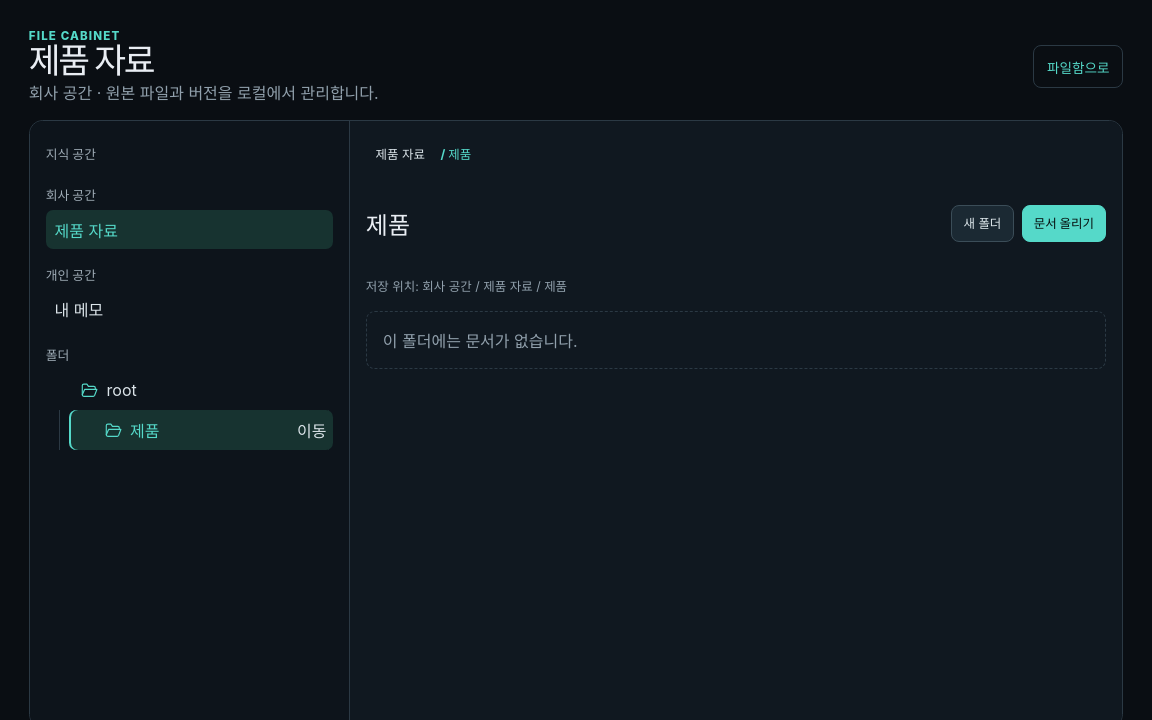
creates a folder under the selected folder and refreshes that exact page
The image size is (1152, 720).
Click the button "새 폴더" at (982, 224), box [951,205,1014,242]
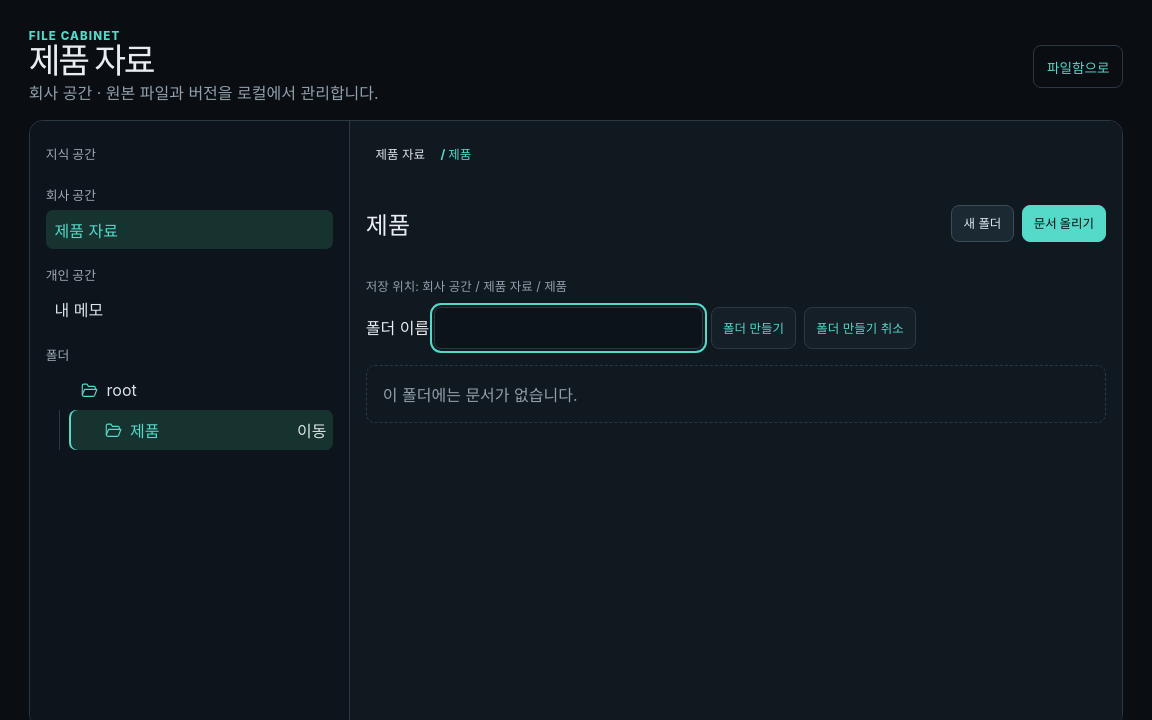
Type "회의" into the field labelled "폴더 이름" at (568, 328), box [434,307,703,348]
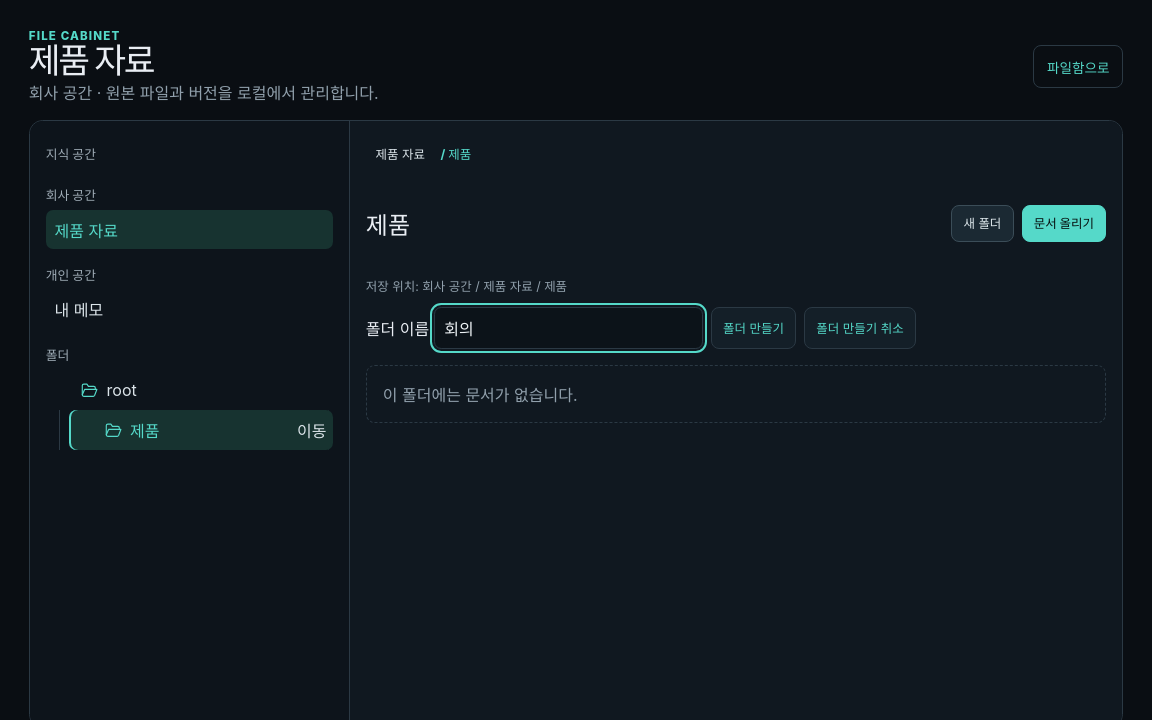
Click the button "폴더 만들기" at (754, 328), box [711,307,796,348]
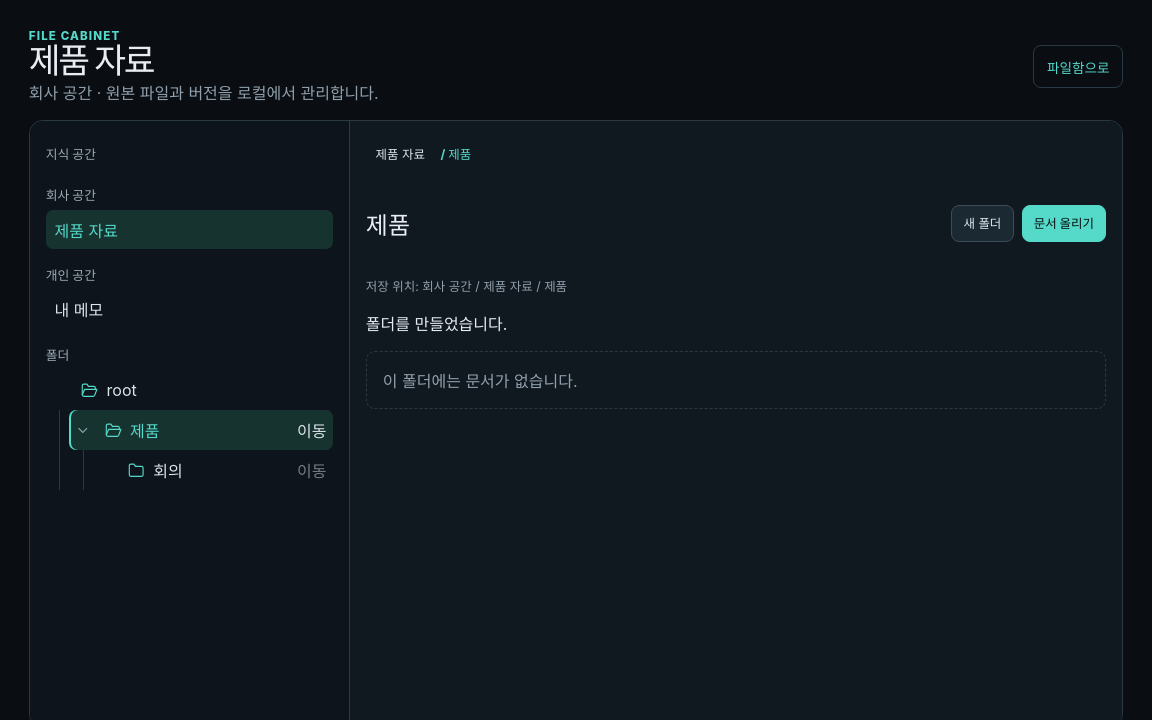
Expected: the button with aria-label "회의 폴더 열기" is shown, [121,450,291,490]
